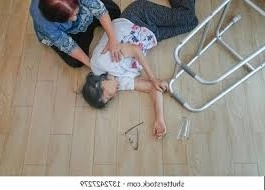fall: (85, 1, 203, 137)
not_fallen: (29, 1, 120, 70)
